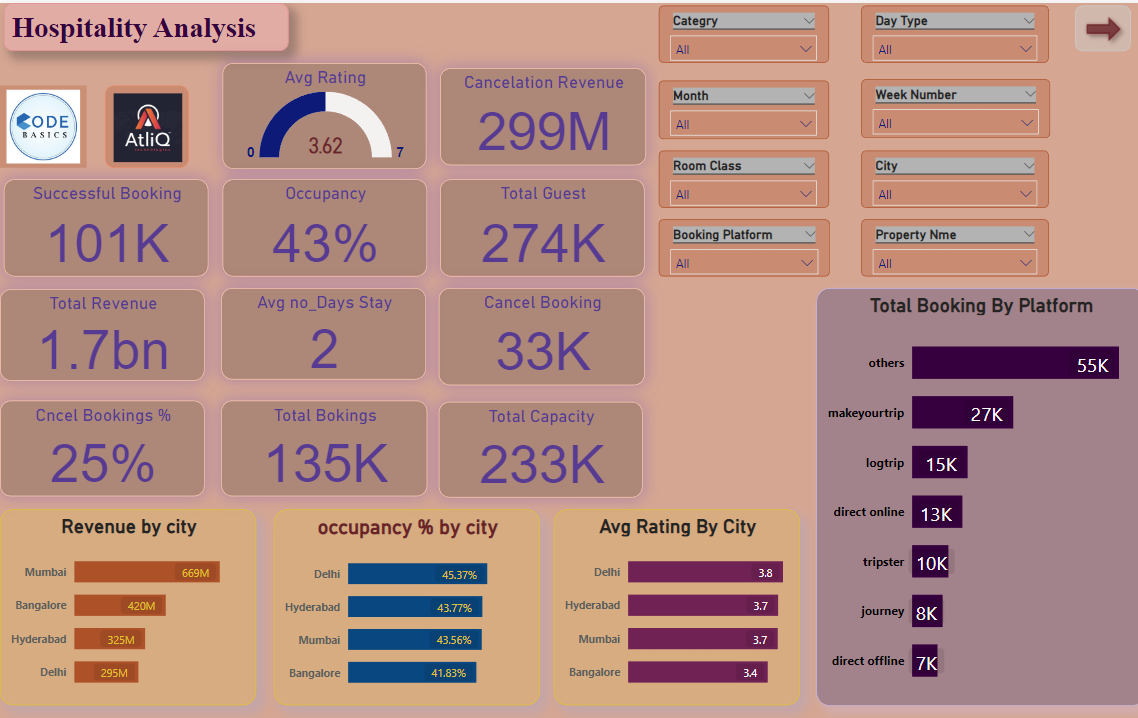

Layout of this report page (visuals, bound fields, positions):
{"tool":"powerbi","page":{"name":"Page 1","canvas":[1280,820],"ordinal":0},"visuals":[{"type":"card","title":"Avg no_Days Stay","fields":{"Values":["Measure.avg_stay_days"]},"box":[247.3,318.6,229.2,102],"z":0},{"type":"card","title":"Total Capacity","fields":{"Values":["Measure.total capacity"]},"box":[490.5,445.8,227.8,107.6],"z":1000},{"type":"card","title":"Total Bokings","fields":{"Values":["Measure.total booking"]},"box":[247.3,444.4,230.6,107.6],"z":2000},{"type":"card","title":"Cncel Bookings %","fields":{"Values":["Measure.cancelled booking %"]},"box":[0,444.4,229.2,107.6],"z":3000},{"type":"card","title":"Total Revenue","fields":{"Values":["Measure.revenue"]},"box":[0,320,229.2,102],"z":4000},{"type":"card","title":"Occupancy","fields":{"Values":["Measure.occupancy %"]},"box":[248.7,197,229.2,109],"z":5000},{"type":"card","title":"Cancel Booking","fields":{"Values":["Measure.cancelled bookings"]},"box":[490.5,318.6,230.6,109],"z":6000},{"type":"card","title":"Successful Booking","fields":{"Values":["Measure.successful booking"]},"box":[4.2,197,229.2,109],"z":7000},{"type":"barChart","title":"Revenue by city","fields":{"Y":["Measure.revenue"],"Category":["dim_hotels.city"]},"box":[0,565.9,286.5,219.4],"z":10000},{"type":"barChart","title":"Avg Rating By City","fields":{"Category":["dim_hotels.city"],"Y":["Measure.average rating"]},"box":[619,565.9,275.3,219.4],"z":11000},{"type":"barChart","fields":{"Category":["dim_hotels.city"],"Y":["Measure.occupancy %"]},"box":[306,565.9,297.6,219.4],"z":12000},{"type":"barChart","title":"Total Booking By Platform","fields":{"Category":["fact_bookings.booking_platform"],"Y":["Measure.total booking"]},"box":[912.1,318.3,367.9,467.1],"z":13000},{"type":"textbox","box":[4.1,0,318.3,53.7],"z":13001},{"type":"gauge","title":"Avg Rating","fields":{"Y":["Measure.average rating"]},"box":[248.7,67.1,227.8,118.8],"z":13002},{"type":"image","box":[0,92.3,96.4,92.3],"z":13003},{"type":"shape","box":[1201.5,2.8,62,51],"z":13004},{"type":"image","box":[117.1,92.3,93.7,92.3],"z":13005},{"type":"slicer","fields":{"Values":["fact_bookings.booking_platform"]},"box":[736.4,241.7,191.4,64.3],"z":13006},{"type":"slicer","fields":{"Values":["dim_hotels.category"]},"box":[736.4,2.8,190,64.3],"z":13007},{"type":"slicer","fields":{"Values":["dim_date.day_type"]},"box":[962.8,2.8,209.6,64.3],"z":13008},{"type":"slicer","fields":{"Values":["dim_rooms.room_class"]},"box":[736.4,164.9,190,64.3],"z":13009},{"type":"slicer","fields":{"Values":["dim_date.mmm yy"]},"box":[736.4,86.6,190,65.7],"z":13010},{"type":"slicer","fields":{"Values":["dim_date.week no"]},"box":[962.8,85.2,211,65.7],"z":13011},{"type":"slicer","fields":{"Values":["dim_hotels.property_name"]},"box":[962.8,241.7,209.6,64.3],"z":13012},{"type":"slicer","fields":{"Values":["dim_hotels.city"]},"box":[962.8,164.9,209.6,64.3],"z":13013},{"type":"card","title":"Total Guest","fields":{"Values":["Measure.total guest"]},"box":[491.9,197,229.2,109],"z":13014},{"type":"card","title":"Cancelation Revenue","fields":{"Values":["Measure.Cancelation Revenue"]},"box":[491.9,72.7,230.6,109],"z":13015}]}

Visuals, with their boxes in screenshot pixels (x1, y1, x2, y2), scaled from the page's 1280x820 canvas onto the 1138x718 screenshot:
"Avg no_Days Stay" card: 220/279/424/368
"Total Capacity" card: 436/390/639/485
"Total Bokings" card: 220/389/425/483
"Cncel Bookings %" card: 0/389/204/483
"Total Revenue" card: 0/280/204/370
"Occupancy" card: 221/172/425/268
"Cancel Booking" card: 436/279/641/374
"Successful Booking" card: 4/172/208/268
"Revenue by city" barChart: 0/496/255/688
"Avg Rating By City" barChart: 550/496/795/688
barChart - dim_hotels.city x Measure.occupancy %: 272/496/537/688
"Total Booking By Platform" barChart: 811/279/1137/688
textbox: 4/0/287/47
"Avg Rating" gauge: 221/59/424/163
image: 0/81/86/162
shape: 1068/2/1123/47
image: 104/81/187/162
slicer - fact_bookings.booking_platform: 655/212/825/268
slicer - dim_hotels.category: 655/2/824/59
slicer - dim_date.day_type: 856/2/1042/59
slicer - dim_rooms.room_class: 655/144/824/201
slicer - dim_date.mmm yy: 655/76/824/133
slicer - dim_date.week no: 856/75/1044/132
slicer - dim_hotels.property_name: 856/212/1042/268
slicer - dim_hotels.city: 856/144/1042/201
"Total Guest" card: 437/172/641/268
"Cancelation Revenue" card: 437/64/642/159
